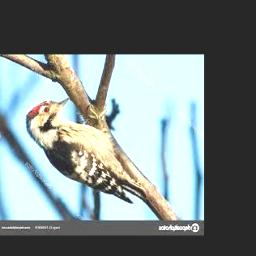Woodpecker: (26, 98, 147, 204)
